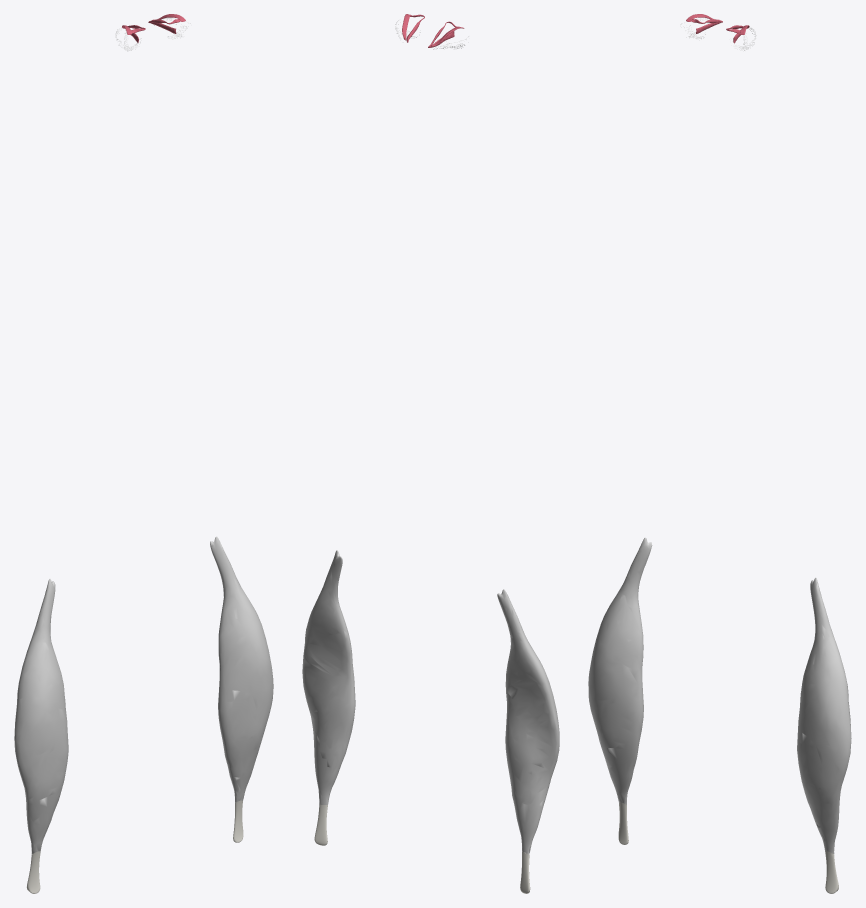
Rendered from muscles.glb.
3 renders of one model, left to right at view 1: azimuth 30°, elevation 25°; view 2: azimuth 150°, elevation 25°; view 3: azimuth 330°, elevation 25°, orthographic. The views are drawn at different scales.
Visible parts, largest first — view 1: HRA-VH_F_rectus_femoris_L, HRA-VH_F_rectus_femoris_R; view 2: HRA-VH_F_rectus_femoris_R, HRA-VH_F_rectus_femoris_L; view 3: HRA-VH_F_rectus_femoris_R, HRA-VH_F_rectus_femoris_L.
Boxes of the visible parts, bbox=[...] form: HRA-VH_F_rectus_femoris_L: bbox=[210, 536, 273, 802]; HRA-VH_F_rectus_femoris_R: bbox=[14, 579, 68, 853]; HRA-VH_F_rectus_femoris_R: bbox=[497, 589, 559, 854]; HRA-VH_F_rectus_femoris_L: bbox=[302, 550, 355, 804]; HRA-VH_F_rectus_femoris_R: bbox=[588, 537, 652, 804]; HRA-VH_F_rectus_femoris_L: bbox=[797, 577, 851, 853].
Size of the model in its own units: 0.7677 by 2.42 by 0.1173.
